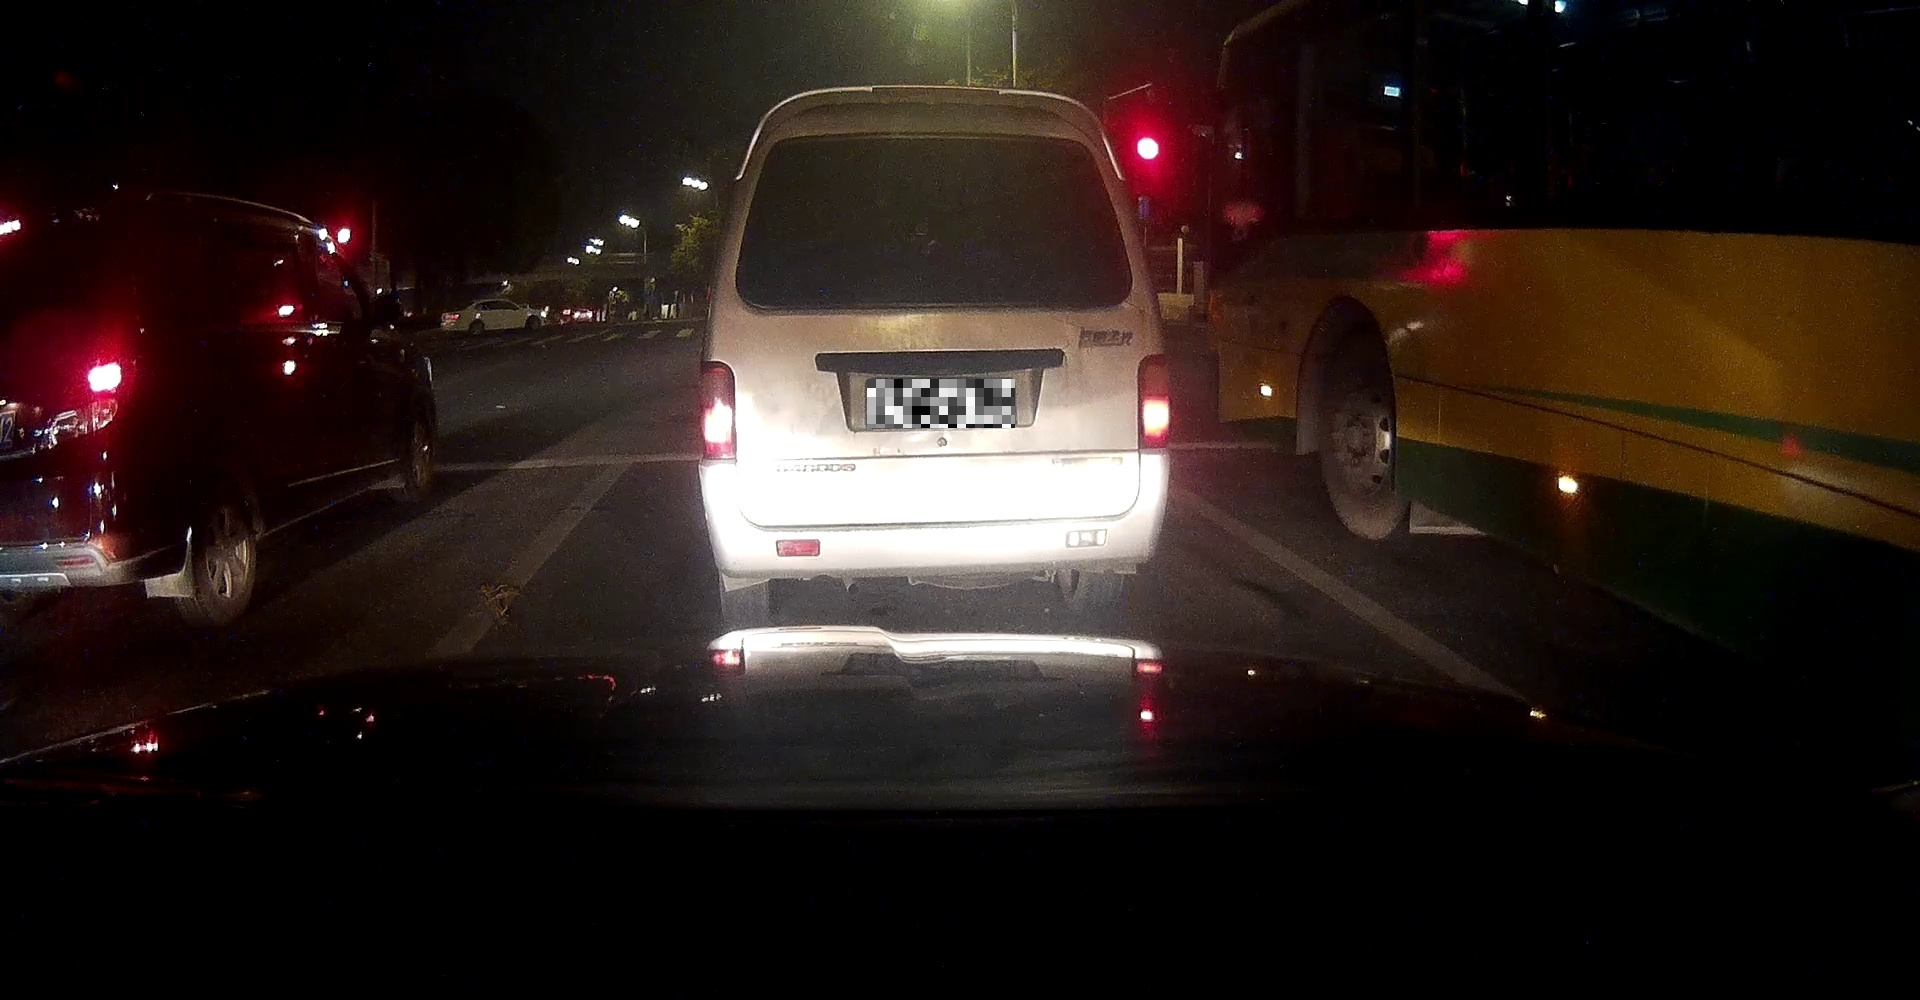L_light: (698, 360, 737, 459)
R_light: (1137, 353, 1171, 449)
T_light: (905, 132, 979, 143)
night-no: (698, 82, 1171, 629)
plate_1: (867, 379, 1015, 428)
